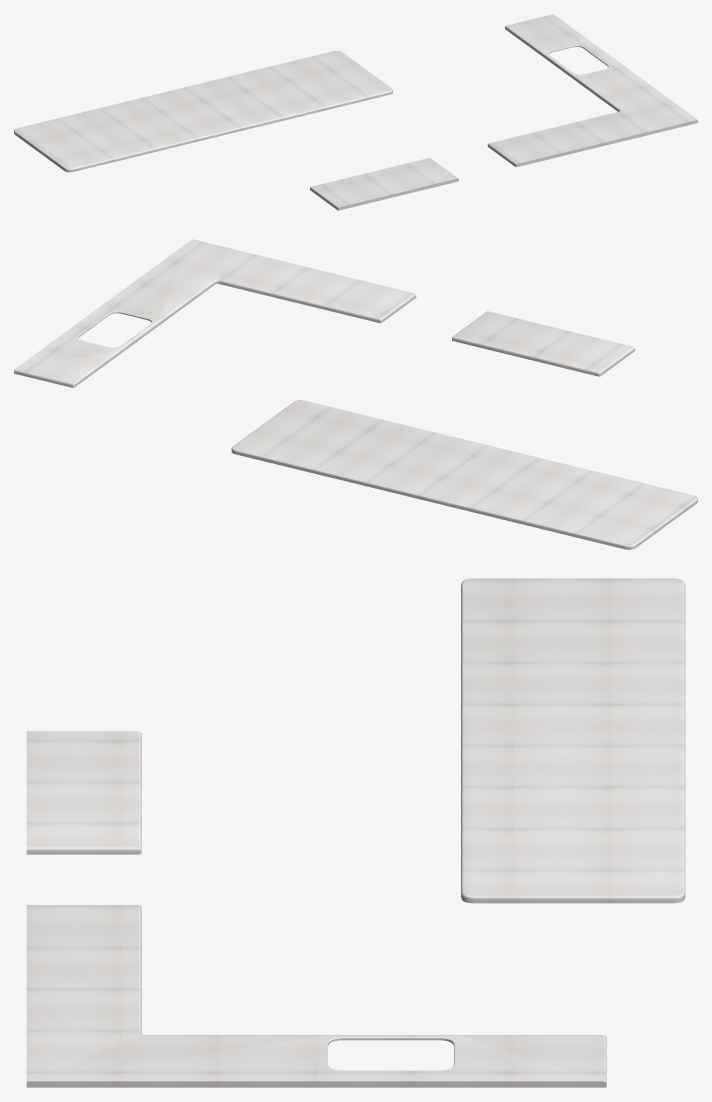
The model's file is 1860_kitchen_Countertops_QuartzArcticWhite.gltf.
The picture shows the model from 3 angles, top to bottom: view 1: azimuth 30°, elevation 25°; view 2: azimuth 150°, elevation 25°; view 3: azimuth 270°, elevation 25°; orthographic projection. The views are drawn at different scales.
Parts seen in each view (by area): view 1: Countertops_Quartz Arctic White; view 2: Countertops_Quartz Arctic White; view 3: Countertops_Quartz Arctic White.
Boxes of the visible parts, x1,y1,x2,y2 form: Countertops_Quartz Arctic White: (14, 14, 697, 210); Countertops_Quartz Arctic White: (14, 239, 697, 549); Countertops_Quartz Arctic White: (26, 578, 685, 1087).
Bounding box in the file's own units: 8.6 × 0.09 × 4.7.
1 material, 1 textured.
